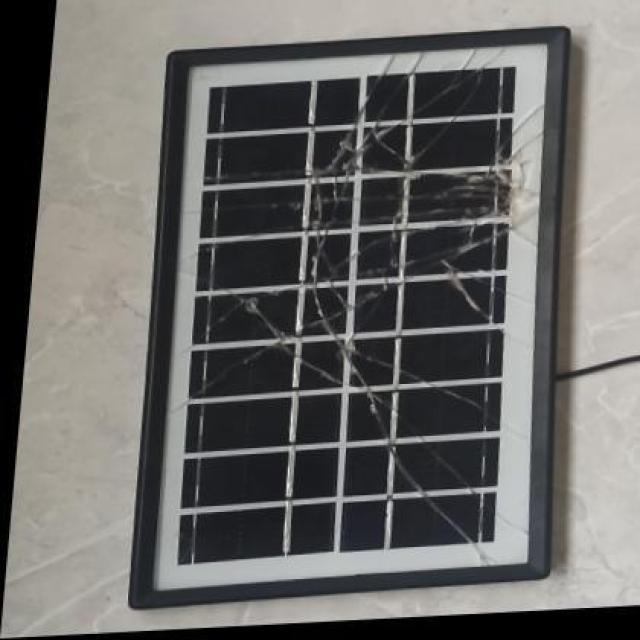cracked: (130, 29, 568, 613)
